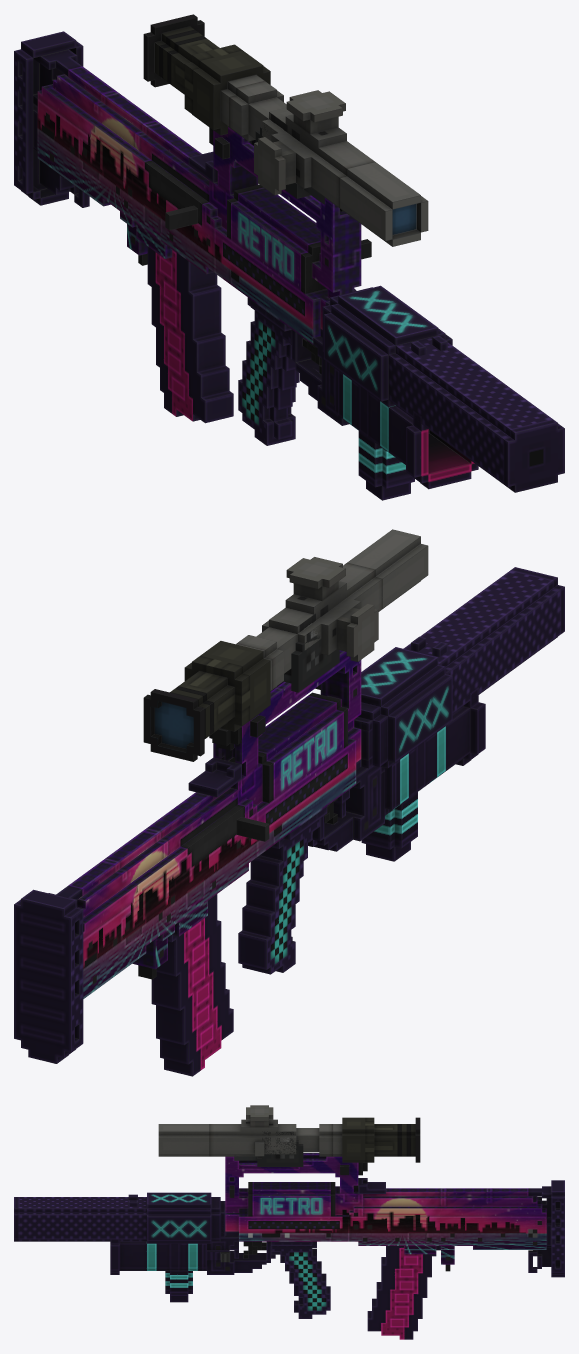
The model's file is RD_GROZA_RETRO.glb.
The picture shows the model from 3 angles, top to bottom: view 1: azimuth 30°, elevation 25°; view 2: azimuth 150°, elevation 25°; view 3: azimuth 270°, elevation 25°; orthographic projection. The views are drawn at different scales.
Visible parts, largest first — view 1: GROZA, SCOPE_PSO1, GROZA_SILENCER, GROZA_CLIP, GROZA_GP, GROZA_GRIP, SCOPE_EOTECH, GROZA_BOLT; view 2: GROZA, SCOPE_PSO1, GROZA_SILENCER, GROZA_CLIP, GROZA_GP, GROZA_GRIP, SCOPE_EOTECH; view 3: GROZA, GROZA_SILENCER, SCOPE_PSO1, GROZA_GP, GROZA_CLIP, SCOPE_EOTECH, GROZA_GRIP.
Part boxes in pixels (x1,y1,x2,y2): GROZA: (14,31,371,445); SCOPE_PSO1: (143,14,428,246); GROZA_SILENCER: (310,285,564,492); GROZA_CLIP: (144,244,233,423); GROZA_GP: (291,329,478,489); GROZA_GRIP: (307,329,414,500); SCOPE_EOTECH: (255,113,324,204); GROZA_BOLT: (165,205,197,230); GROZA: (14,650,361,1063); SCOPE_PSO1: (143,529,428,761); GROZA_SILENCER: (354,567,564,773); GROZA_CLIP: (151,894,233,1076); GROZA_GP: (313,636,485,851); GROZA_GRIP: (309,759,417,861); SCOPE_EOTECH: (283,613,339,692); GROZA: (225,1153,564,1318); GROZA_SILENCER: (14,1192,275,1262); SCOPE_PSO1: (158,1105,420,1162); GROZA_GP: (110,1194,270,1274); GROZA_CLIP: (367,1246,440,1339); SCOPE_EOTECH: (234,1131,303,1166); GROZA_GRIP: (165,1220,224,1302).
Size of the model in its own units: 0.1181 by 0.5314 by 1.18.
6 materials, 6 textured.
